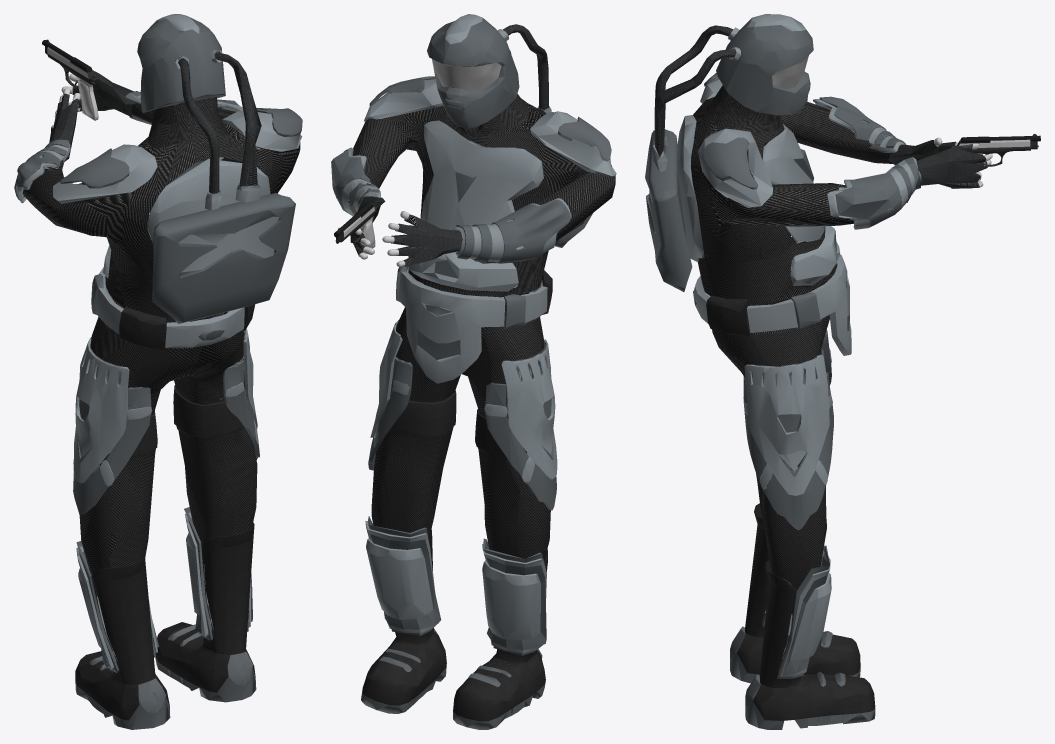
File: AndarPistola.0018.obj
3 renders of one model, left to right at view 1: azimuth 30°, elevation 25°; view 2: azimuth 150°, elevation 25°; view 3: azimuth 270°, elevation 25°, orthographic. The views are drawn at different scales.
Parts seen in each view (by area): view 1: personajeskefix:personaje:extrudedSurface2 polySurface162, personajeskefix:personaje:bota1 polySurface162, personajeskefix:personaje:PANTALON polySurface162, personajeskefix:personaje:CAMISETABUENA polySurface162, personajeskefix:personaje:pPipe4 polySurface162, personajeskefix:personaje:pCube4 polySurface162, personajeskefix:personaje:cosoarmdaurapierna1 polySurface162, personajeskefix:personaje:cinturon polySurface162, personajeskefix:personaje:polySurface6 polySurface162, personajeskefix:personaje:armadbota1 polySurface162, pistola:Cylinder001 polySurface162, personajeskefix:personaje:HOMBRO2 polySurface162 (+6 smaller); view 2: personajeskefix:personaje:pPipe4 polySurface162, personajeskefix:personaje:PANTALON polySurface162, personajeskefix:personaje:CAMISETABUENA polySurface162, personajeskefix:personaje:bota1 polySurface162, personajeskefix:personaje:armadbota1 polySurface162, personajeskefix:personaje:cinturon polySurface162, personajeskefix:personaje:pCube4 polySurface162, personajeskefix:personaje:extrudedSurface2 polySurface162, personajeskefix:personaje:cosoarmdaurapierna1 polySurface162, personajeskefix:personaje:polySurface2 polySurface162, personajeskefix:personaje:polySurface6 polySurface162, personajeskefix:personaje:cosoarmadurapierna2 polySurface162 (+8 smaller); view 3: personajeskefix:personaje:CAMISETABUENA polySurface162, personajeskefix:personaje:pPipe4 polySurface162, personajeskefix:personaje:bota1 polySurface162, personajeskefix:personaje:extrudedSurface2 polySurface162, personajeskefix:personaje:pCube4 polySurface162, personajeskefix:personaje:PANTALON polySurface162, personajeskefix:personaje:cinturon polySurface162, personajeskefix:personaje:cosoarmadurapierna2 polySurface162, personajeskefix:personaje:armadbota1 polySurface162, personajeskefix:personaje:hombro1 polySurface162, pistola:Cylinder001 polySurface162, personajeskefix:personaje:polySurface2 polySurface162 (+3 smaller).
Boxes of the visible parts, bbox=[...] form: personajeskefix:personaje:extrudedSurface2 polySurface162: bbox=[137, 14, 295, 324]; personajeskefix:personaje:bota1 polySurface162: bbox=[75, 523, 256, 729]; personajeskefix:personaje:PANTALON polySurface162: bbox=[79, 291, 257, 596]; personajeskefix:personaje:CAMISETABUENA polySurface162: bbox=[22, 96, 300, 348]; personajeskefix:personaje:pPipe4 polySurface162: bbox=[44, 70, 302, 276]; personajeskefix:personaje:pCube4 polySurface162: bbox=[73, 313, 258, 672]; personajeskefix:personaje:cosoarmdaurapierna1 polySurface162: bbox=[73, 337, 152, 486]; personajeskefix:personaje:cinturon polySurface162: bbox=[91, 267, 255, 350]; personajeskefix:personaje:polySurface6 polySurface162: bbox=[130, 385, 244, 457]; personajeskefix:personaje:armadbota1 polySurface162: bbox=[76, 512, 250, 669]; pistola:Cylinder001 polySurface162: bbox=[42, 39, 98, 120]; personajeskefix:personaje:HOMBRO2 polySurface162: bbox=[60, 148, 129, 188]; personajeskefix:personaje:pPipe4 polySurface162: bbox=[331, 79, 616, 291]; personajeskefix:personaje:PANTALON polySurface162: bbox=[371, 282, 550, 560]; personajeskefix:personaje:CAMISETABUENA polySurface162: bbox=[348, 64, 615, 325]; personajeskefix:personaje:bota1 polySurface162: bbox=[361, 529, 547, 729]; personajeskefix:personaje:armadbota1 polySurface162: bbox=[365, 521, 546, 653]; personajeskefix:personaje:cinturon polySurface162: bbox=[396, 262, 552, 383]; personajeskefix:personaje:pCube4 polySurface162: bbox=[366, 320, 556, 655]; personajeskefix:personaje:extrudedSurface2 polySurface162: bbox=[427, 14, 592, 247]; personajeskefix:personaje:cosoarmdaurapierna1 polySurface162: bbox=[484, 339, 557, 483]; personajeskefix:personaje:polySurface2 polySurface162: bbox=[456, 199, 570, 263]; personajeskefix:personaje:polySurface6 polySurface162: bbox=[390, 390, 505, 456]; personajeskefix:personaje:cosoarmadurapierna2 polySurface162: bbox=[368, 357, 412, 470]; personajeskefix:personaje:CAMISETABUENA polySurface162: bbox=[690, 85, 901, 334]; personajeskefix:personaje:pPipe4 polySurface162: bbox=[677, 77, 987, 285]; personajeskefix:personaje:bota1 polySurface162: bbox=[730, 503, 875, 729]; personajeskefix:personaje:extrudedSurface2 polySurface162: bbox=[645, 14, 813, 291]; personajeskefix:personaje:pCube4 polySurface162: bbox=[743, 330, 832, 678]; personajeskefix:personaje:PANTALON polySurface162: bbox=[712, 272, 831, 614]; personajeskefix:personaje:cinturon polySurface162: bbox=[693, 254, 851, 355]; personajeskefix:personaje:cosoarmadurapierna2 polySurface162: bbox=[743, 371, 833, 530]; personajeskefix:personaje:armadbota1 polySurface162: bbox=[765, 551, 831, 677]; personajeskefix:personaje:hombro1 polySurface162: bbox=[703, 137, 758, 189]; pistola:Cylinder001 polySurface162: bbox=[950, 134, 1040, 188]; personajeskefix:personaje:polySurface2 polySurface162: bbox=[819, 96, 906, 164].
Bounding box in the file's own units: 3.67 × 9.61 × 5.05.
